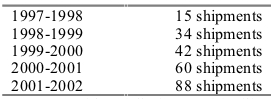column: (6, 1, 94, 98)
row: (6, 23, 272, 42), (7, 42, 272, 61), (9, 78, 272, 97), (7, 6, 270, 24), (9, 61, 272, 79)
